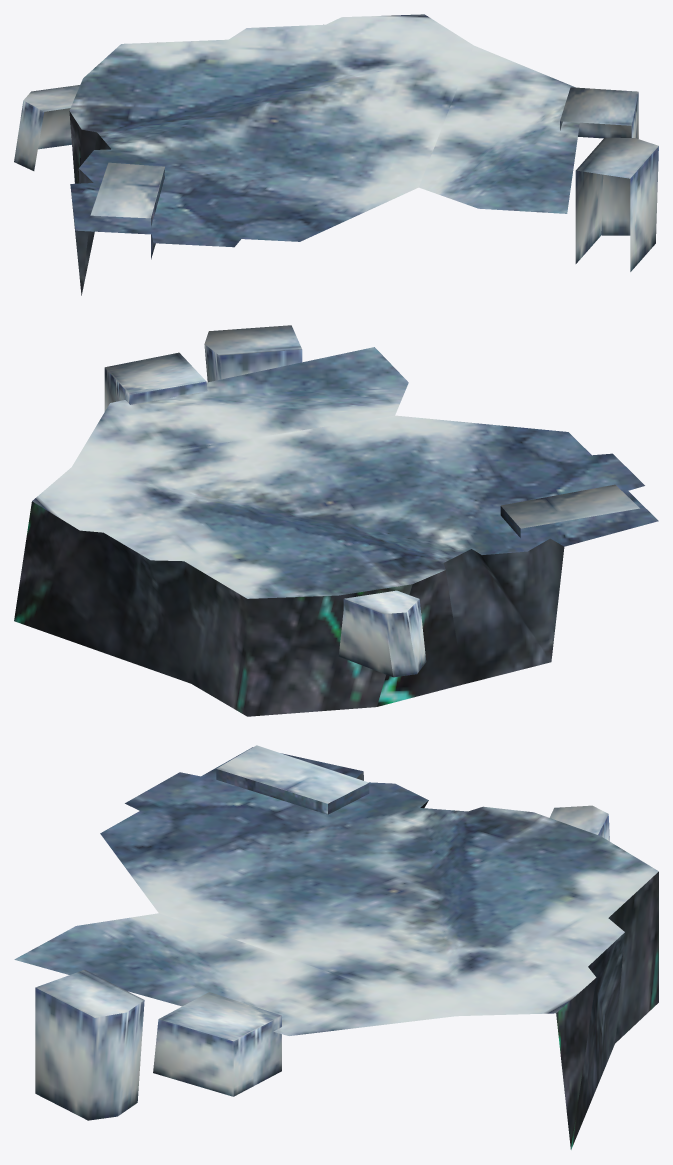
Rendered from S_Build_Snowland208_6.FBX.
The picture shows the model from 3 angles, top to bottom: view 1: azimuth 30°, elevation 25°; view 2: azimuth 150°, elevation 25°; view 3: azimuth 270°, elevation 25°; orthographic projection. The views are drawn at different scales.
Visible parts, largest first — view 1: S_Build_Snowland208_6; view 2: S_Build_Snowland208_6; view 3: S_Build_Snowland208_6.
Boxes of the visible parts, left/top/right/bottom form: S_Build_Snowland208_6: left=14, top=14, right=658, bottom=295; S_Build_Snowland208_6: left=14, top=325, right=658, bottom=716; S_Build_Snowland208_6: left=14, top=745, right=658, bottom=1149.
Bounding box in the file's own units: 616 × 549 × 135.
